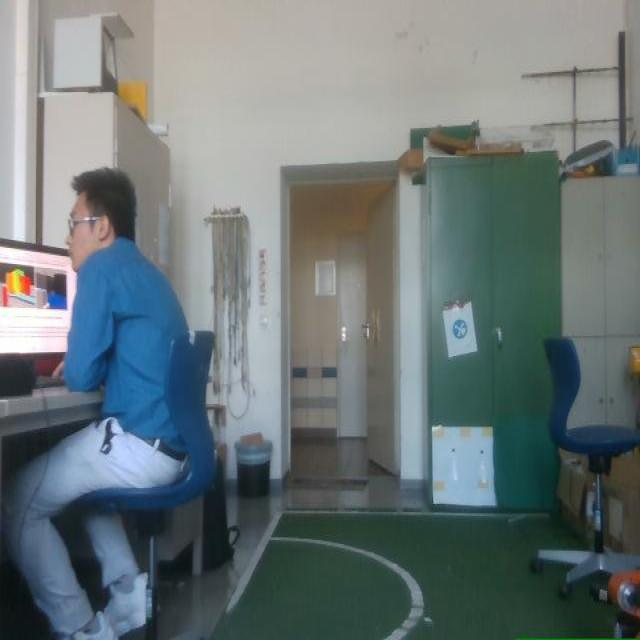humans: (3, 168, 187, 639)
objects: (79, 331, 217, 639), (531, 338, 639, 597), (0, 239, 76, 397), (201, 458, 239, 571), (202, 464, 239, 570), (591, 570, 639, 637), (0, 355, 64, 397), (0, 355, 34, 397)
